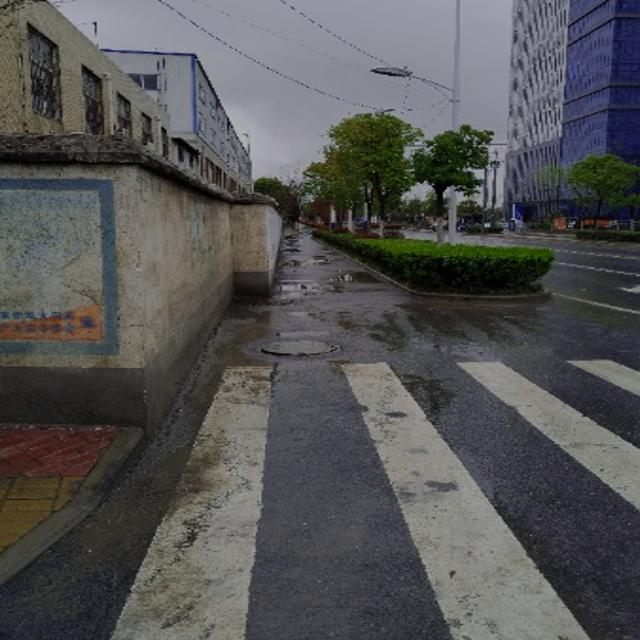good: (227, 304, 378, 388)
